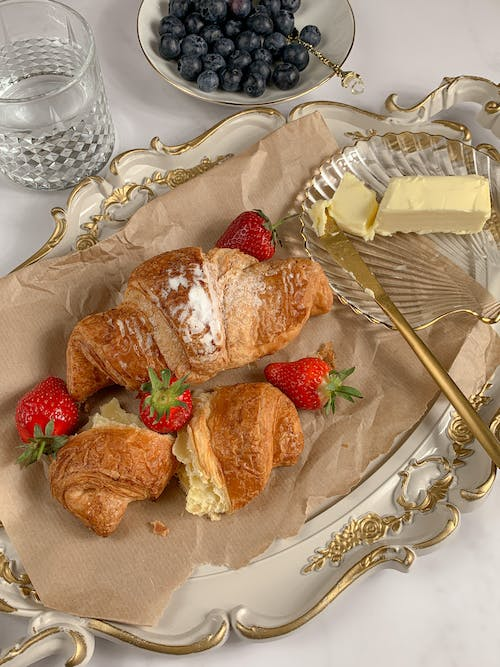knife: (319, 217, 500, 474)
